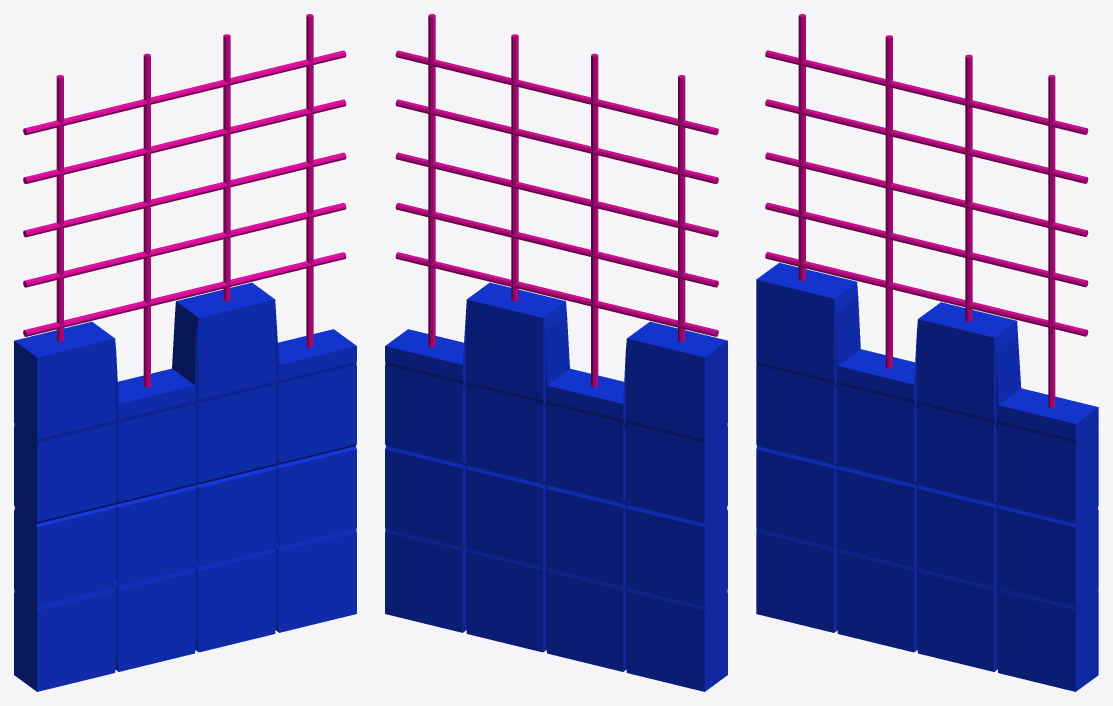
File: BigWall.gltf
3 views of the same model, side by side, from view 1: azimuth 30°, elevation 25°; view 2: azimuth 150°, elevation 25°; view 3: azimuth 330°, elevation 25° (orthographic).
Parts seen in each view (by area): view 1: Cube, Cube.001; view 2: Cube, Cube.001; view 3: Cube, Cube.001.
Part boxes in pixels (box(x1,y1,x2,y2)): Cube: box(14, 282, 356, 691); Cube.001: box(23, 14, 346, 387); Cube: box(385, 282, 727, 691); Cube.001: box(395, 14, 718, 387); Cube: box(756, 262, 1098, 691); Cube.001: box(765, 14, 1088, 408).
Size of the model in its own units: 1 by 1.79 by 0.125.
